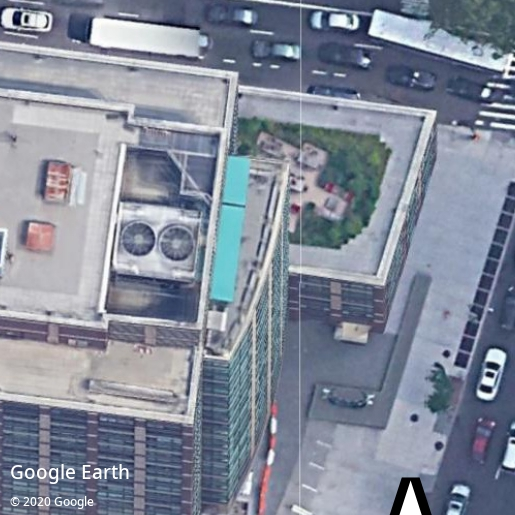Vent: (159, 226, 195, 262), (122, 221, 156, 256)
